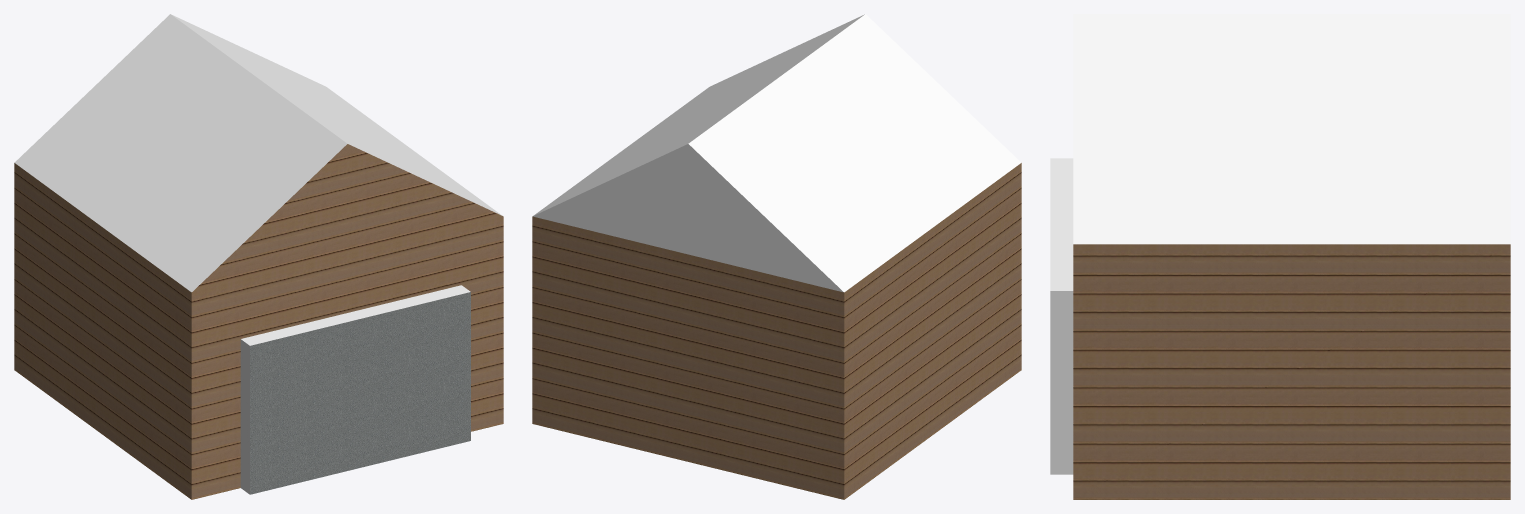
File: TestProj.obj
3 renders of one model, left to right at view 1: azimuth 30°, elevation 25°; view 2: azimuth 150°, elevation 25°; view 3: azimuth 270°, elevation 25°, orthographic. The views are drawn at different scales.
Visible parts, largest first — view 1: Mesh1 Model; view 2: Mesh1 Model; view 3: Mesh1 Model.
Part boxes in pixels (x1,y1,x2,y2): Mesh1 Model: (14, 14, 503, 499); Mesh1 Model: (532, 14, 1021, 499); Mesh1 Model: (1050, 14, 1510, 499).
Size of the model in its own units: 5450 by 5313 by 5649.
3 materials, 2 textured.
